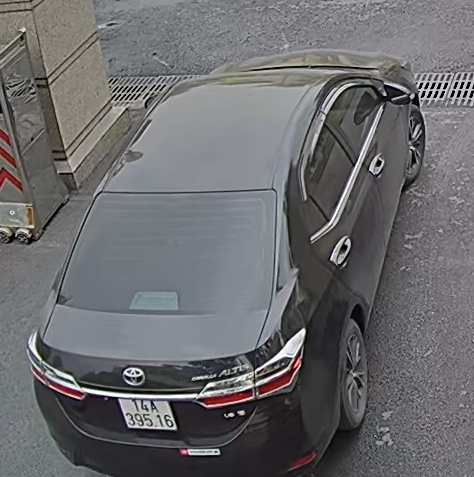vehicle plate: (118, 389, 182, 436)
